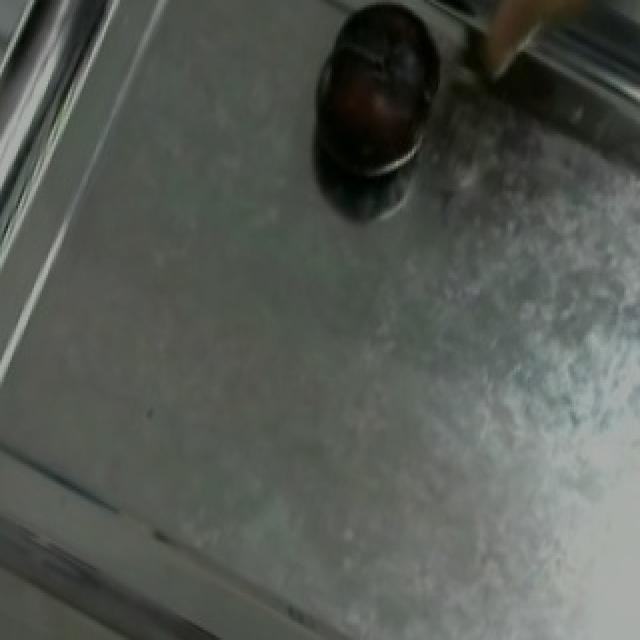Fruit: (296, 0, 460, 201)
